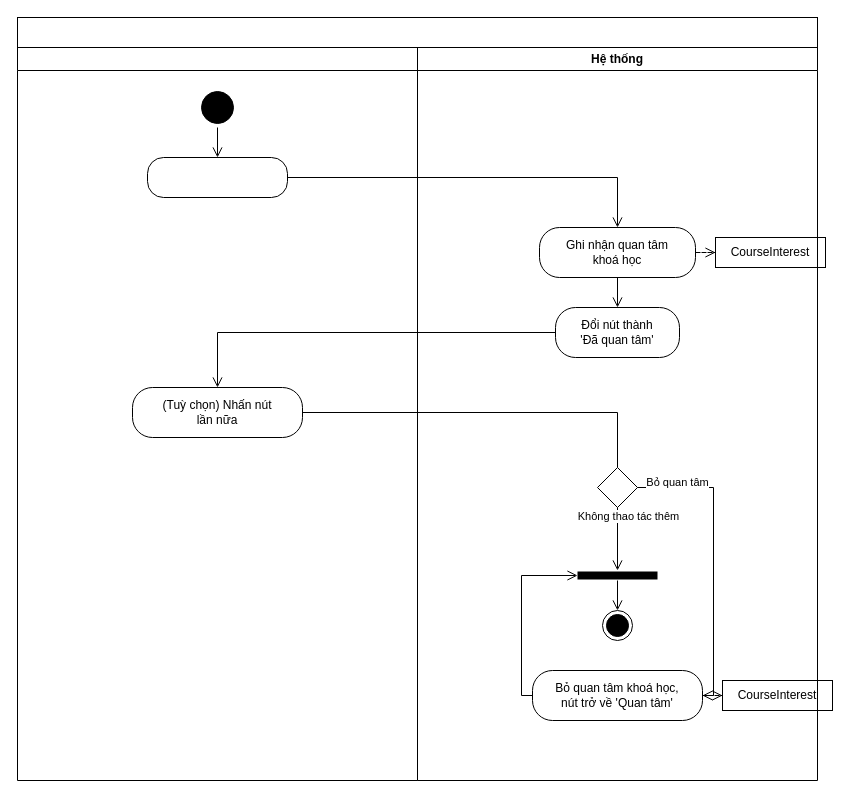
The diagram is 850 pixels wide and 798 high, and some of its shapes have lost their labels. The shapes that lost their labels are listed below. From the top down, each one's box as (x1, y1, x2, y2) in pixels, then its label:
(16, 16, 818, 48): QUAN TÂM / BỎ QUAN TÂM KHOÁ HỌC
(146, 156, 288, 198): Nhấn 'Quan tâm'
(16, 46, 418, 780): Học viên
